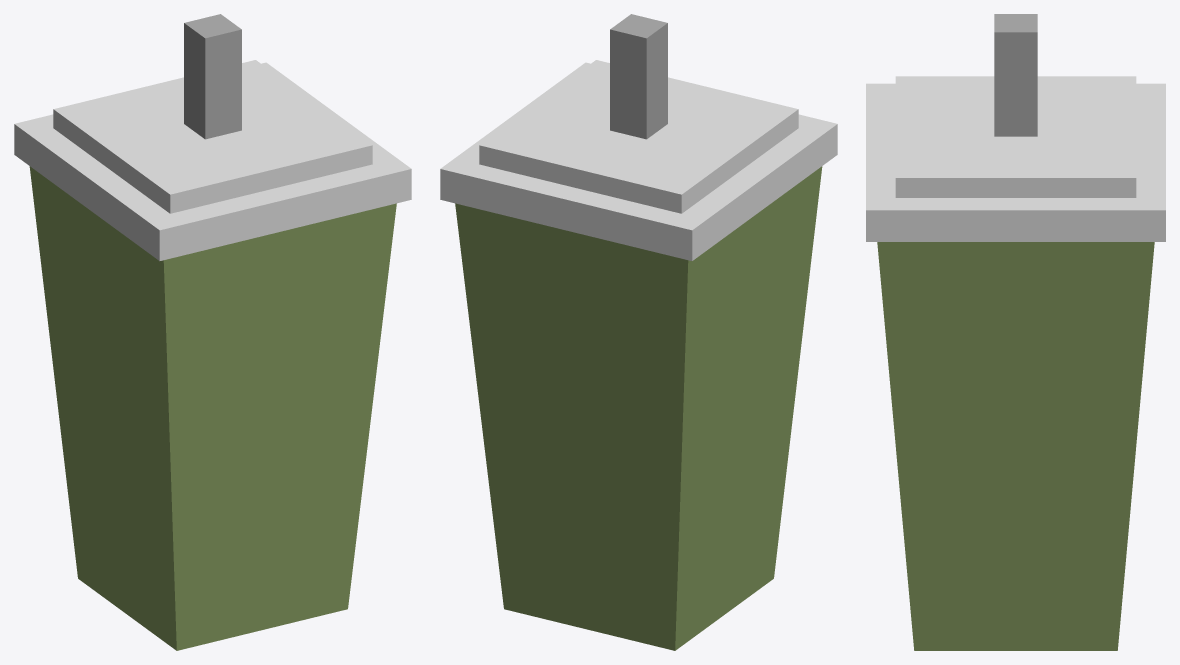
File: FastFoodCupGreen.fbx
3 renders of one model, left to right at view 1: azimuth 30°, elevation 25°; view 2: azimuth 150°, elevation 25°; view 3: azimuth 270°, elevation 25°, orthographic. The views are drawn at different scales.
Visible parts, largest first — view 1: FastFoodCupRedGreen; view 2: FastFoodCupRedGreen; view 3: FastFoodCupRedGreen.
Boxes of the visible parts, x1,y1,x2,y2 form: FastFoodCupRedGreen: (14, 14, 411, 650); FastFoodCupRedGreen: (440, 14, 837, 650); FastFoodCupRedGreen: (866, 14, 1165, 650).
Bounding box in the file's own units: 0.1551 × 0.3339 × 0.1551.
